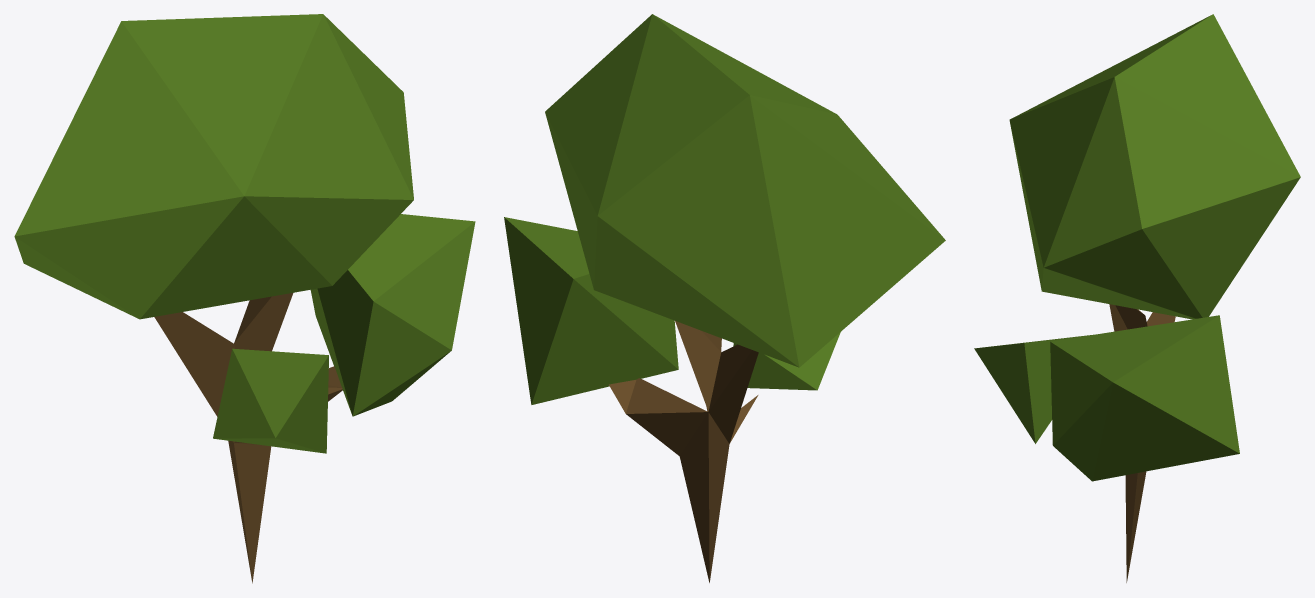
The picture shows the model from 3 angles, left to right: view 1: azimuth 30°, elevation 25°; view 2: azimuth 150°, elevation 25°; view 3: azimuth 270°, elevation 25°; orthographic projection. The views are drawn at different scales.
Visible parts, largest first — view 1: Tree1_1; view 2: Tree1_1; view 3: Tree1_1.
Boxes of the visible parts, x1,y1,x2,y2 form: Tree1_1: (14, 14, 475, 583); Tree1_1: (504, 14, 945, 582); Tree1_1: (974, 14, 1300, 582).
Bounding box in the file's own units: 6.15 × 7.21 × 3.98.
